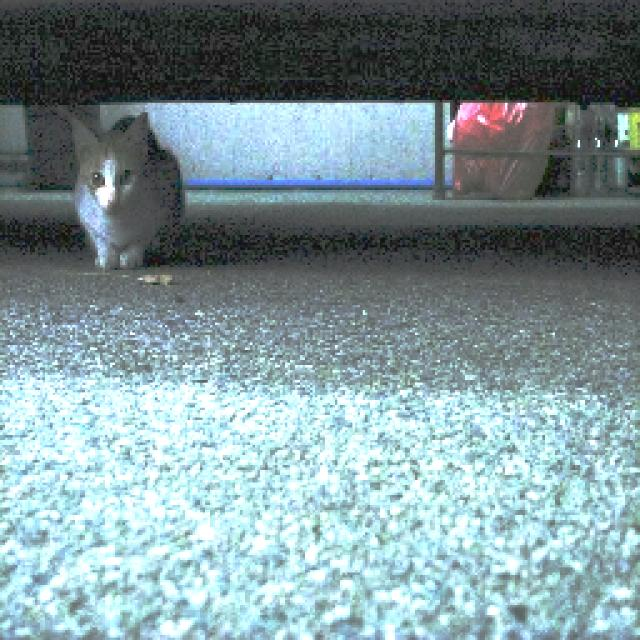cat: (61, 109, 191, 271)
